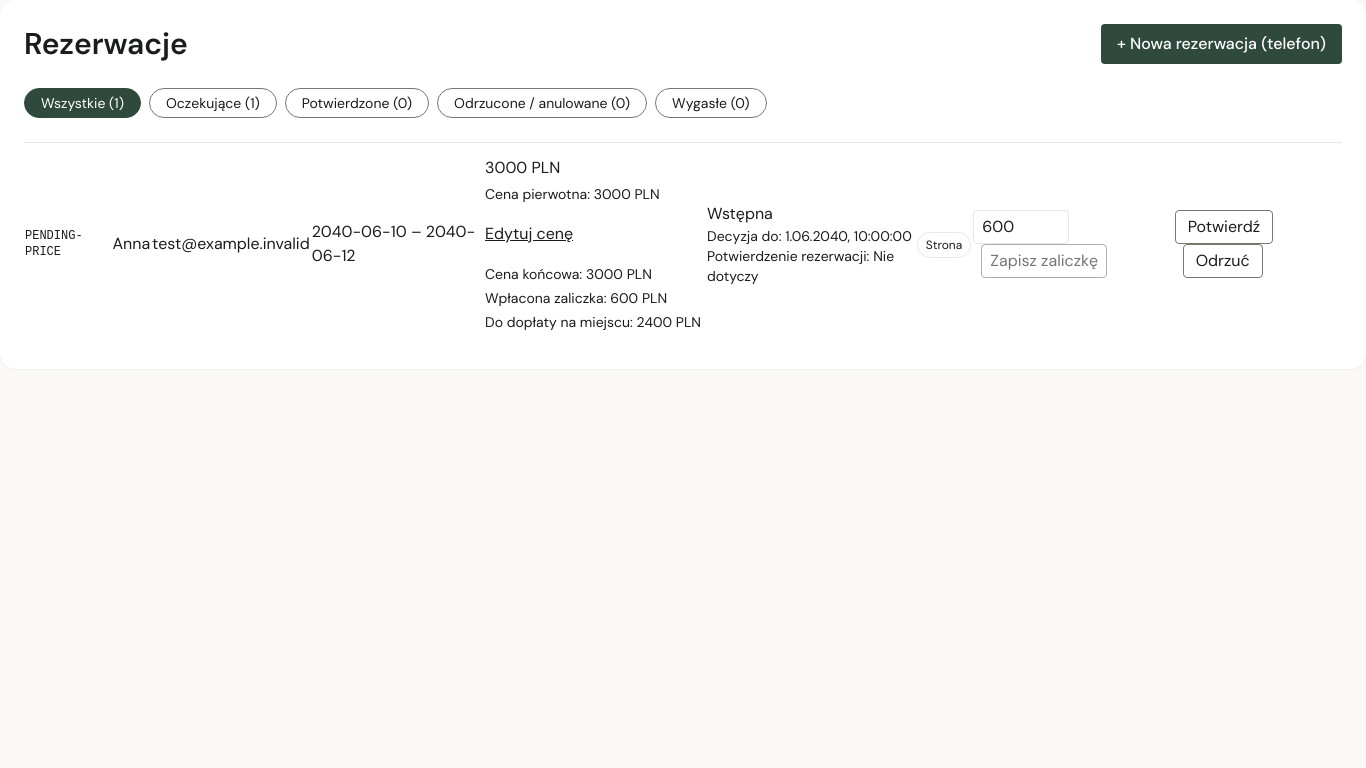
pending booking price editor › accepts comma-decimal manual amounts and shows overpayment instead of a negative balance
Expected: the text "Anna" is shown, [111,142,151,345]
Click the button "Edytuj cenę" at (529, 234), box [485,212,573,256]
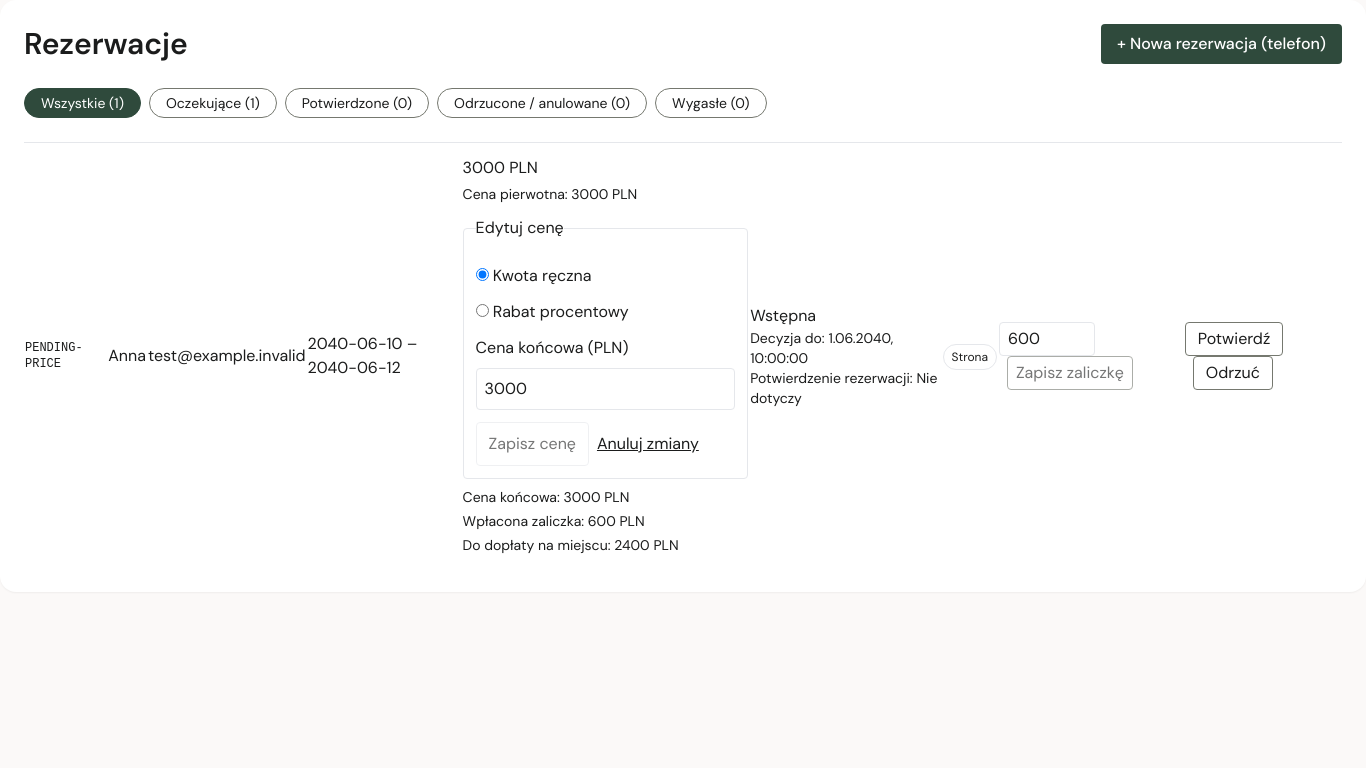
Replace the text in the field labelled "Cena końcowa (PLN)" with "500,50" at (605, 389), box [476,368,735,410]
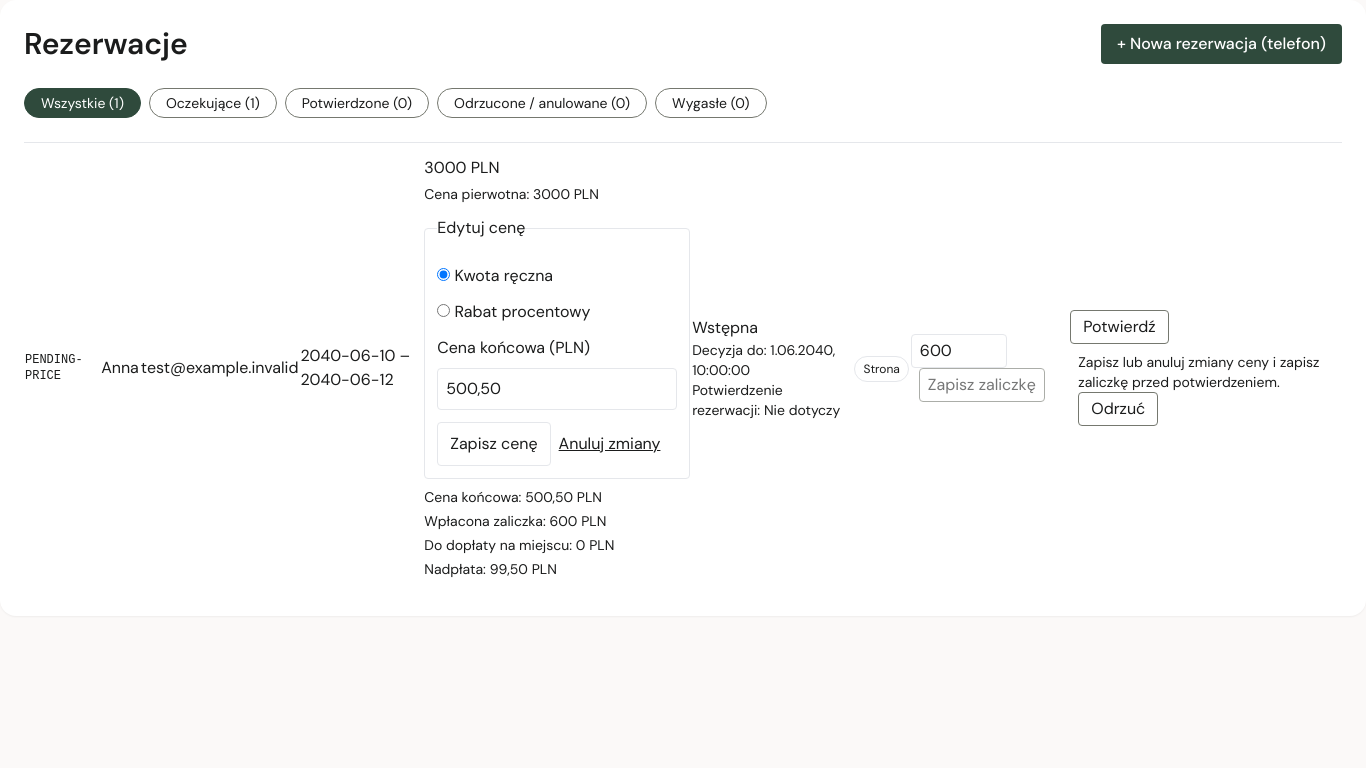
Now the text "Do dopłaty na miejscu: 0 PLN" is shown, box [424,536,614,554]
Now the text "Nadpłata: 99,50 PLN" is shown, box [424,560,557,578]
Click the button "Zapisz cenę" at (494, 444), box [437,422,551,466]
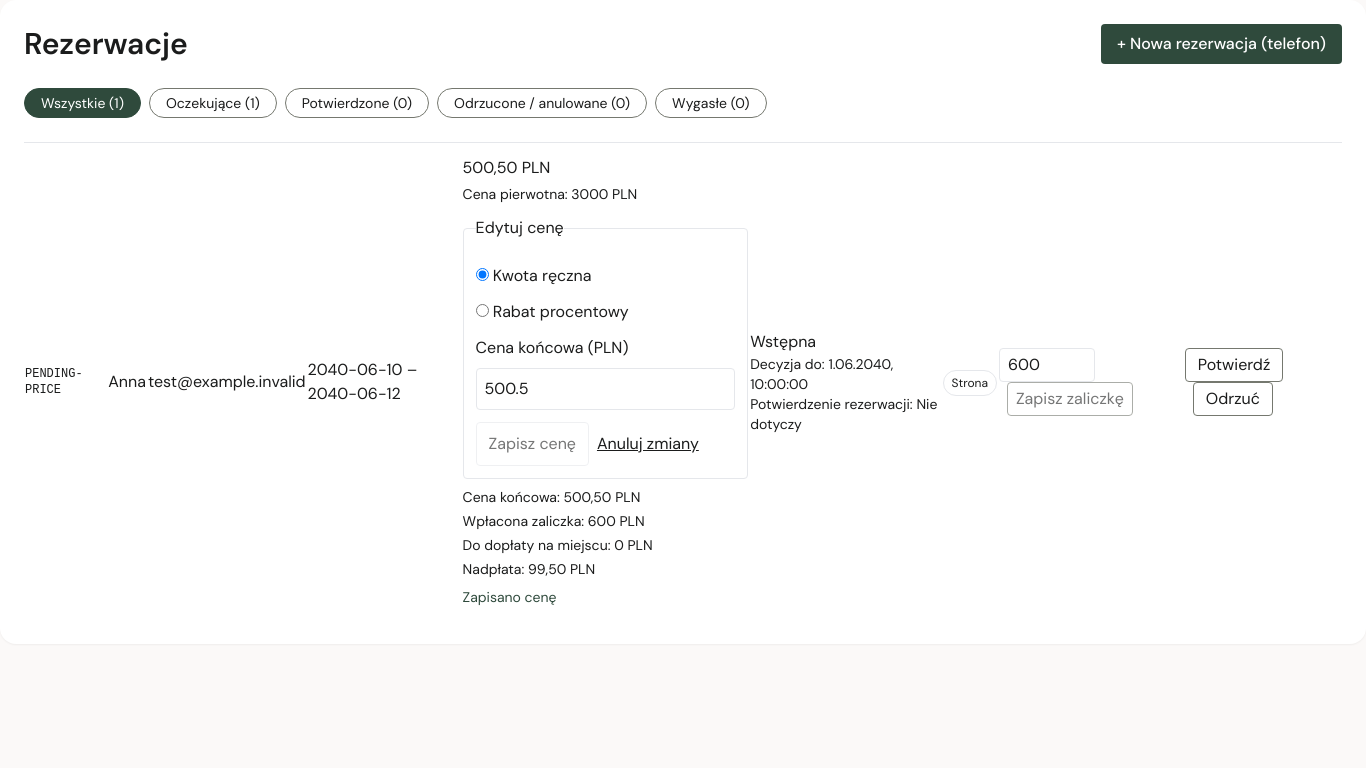
Expected: the field named "Zaliczka Anna" holds "600", [999,348,1095,382]
Now the text "Zapisano cenę" is shown, box [463,588,557,606]
Now the text "500,50 PLN" is shown, box [463,157,550,178]
